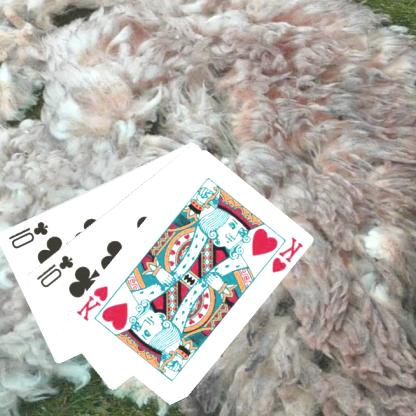10C: (34, 252, 77, 289), (7, 218, 52, 250)
KH: (270, 233, 306, 275), (75, 282, 111, 323)
